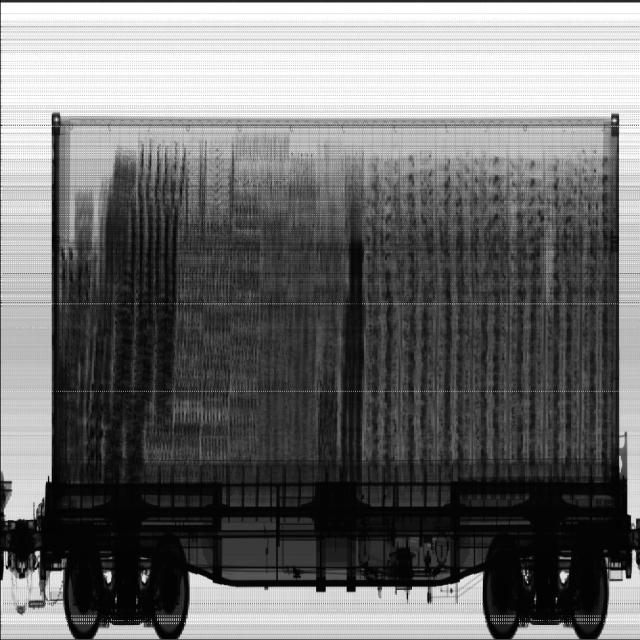fabrics: (286, 263, 397, 507), (46, 152, 111, 512)
